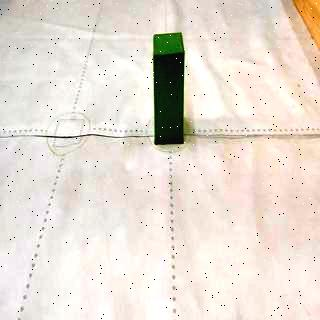greenbox: (153, 32, 185, 144)
